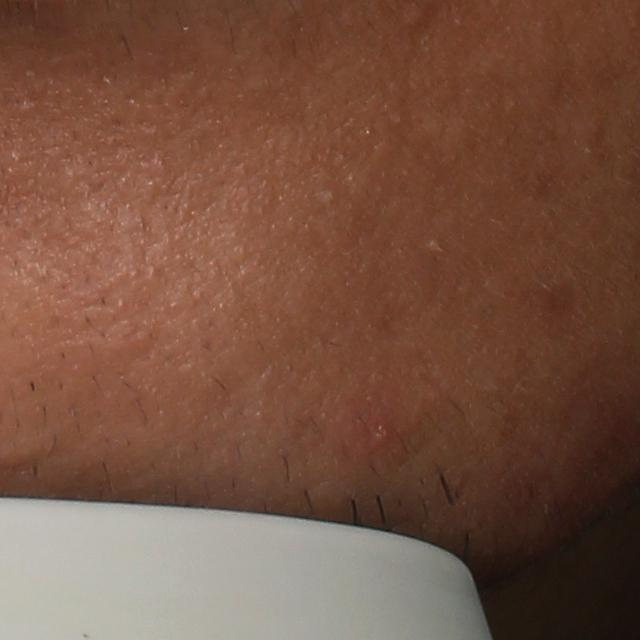papule: (358, 415, 395, 450)
